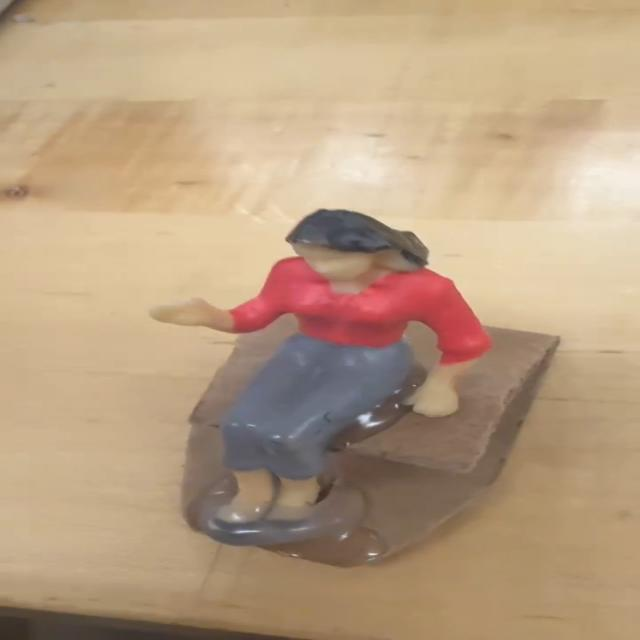Authorized: (111, 193, 485, 552)
